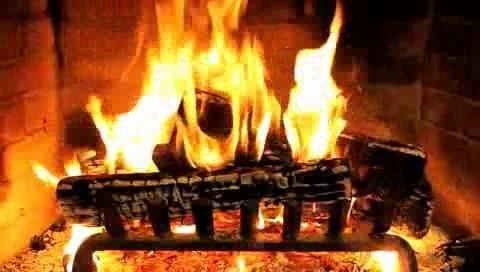fire: (96, 5, 348, 163)
